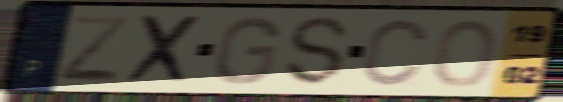C: (359, 17, 433, 89)
G: (211, 14, 283, 87)
O: (431, 17, 501, 90)
S: (284, 15, 353, 89)
X: (122, 13, 205, 87)
Z: (55, 13, 134, 85)
